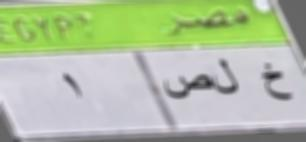1: (60, 67, 86, 100)
khaa: (260, 57, 294, 112)
laam: (211, 54, 241, 104)
saad: (162, 69, 211, 104)
